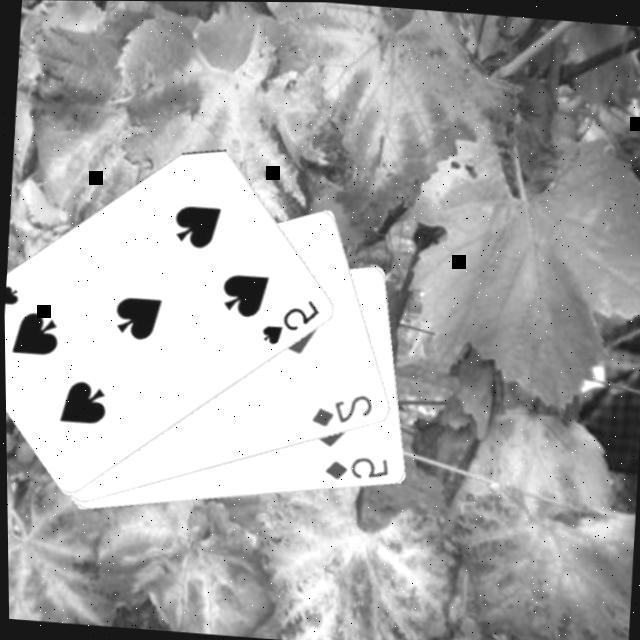2D: (308, 386, 378, 432)
5D: (322, 448, 394, 486)
5S: (258, 292, 325, 351), (3, 280, 25, 335)
